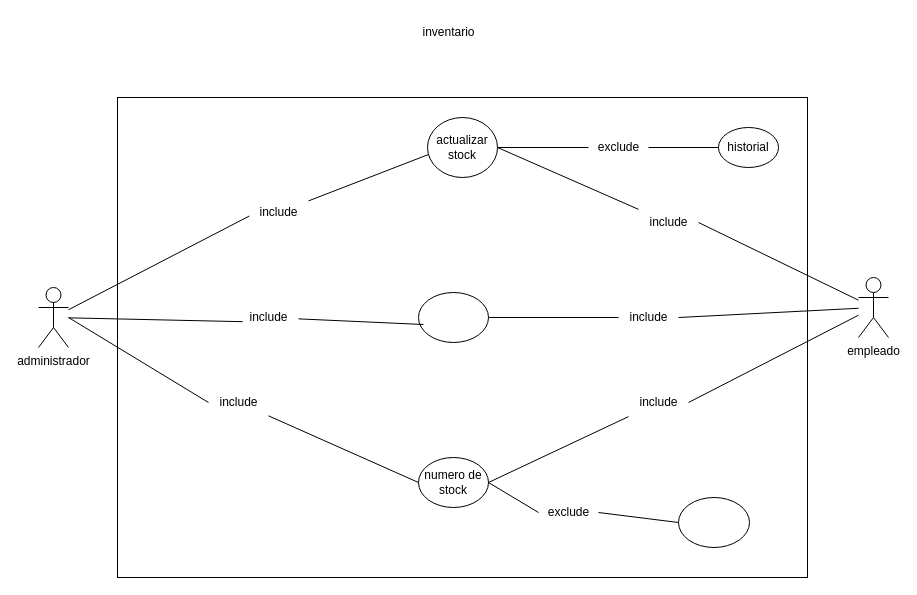
Image size: 917x595. Some labels were removed from this diagram. Here are the shapes that lost their labels. From the top down, the centre of each, then its label:
At point (453, 317): "producto nuevo".
At point (714, 522): "alerta de stock bajo".
